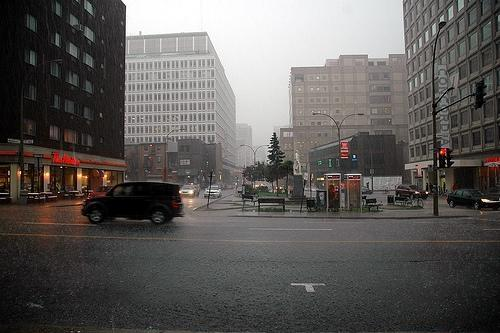bicycle: (406, 192, 424, 209)
car: (80, 184, 184, 225), (447, 188, 500, 210), (394, 183, 428, 200), (86, 184, 114, 200), (180, 184, 200, 197), (204, 185, 222, 198), (360, 185, 374, 195)
